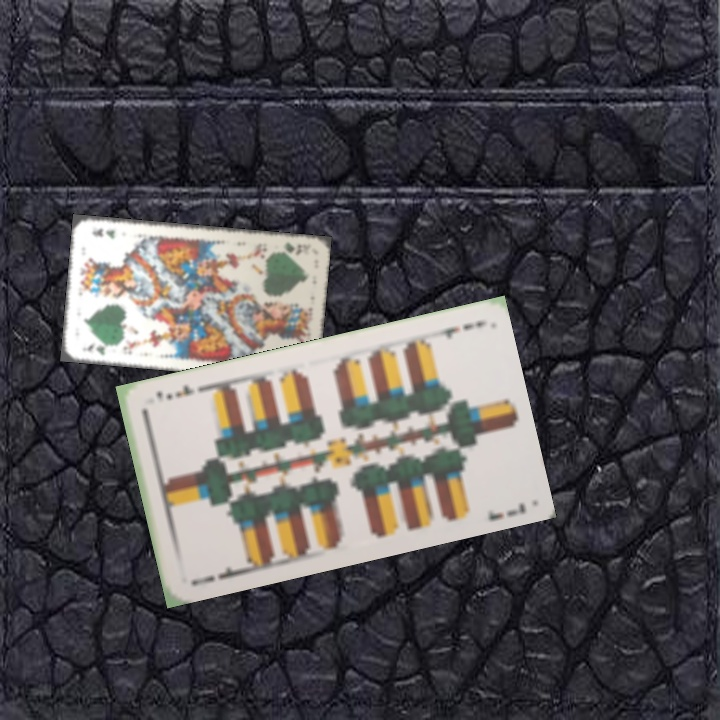E7: (187, 562, 245, 589), (426, 317, 485, 341)
GK: (78, 340, 117, 358), (273, 238, 298, 255)
